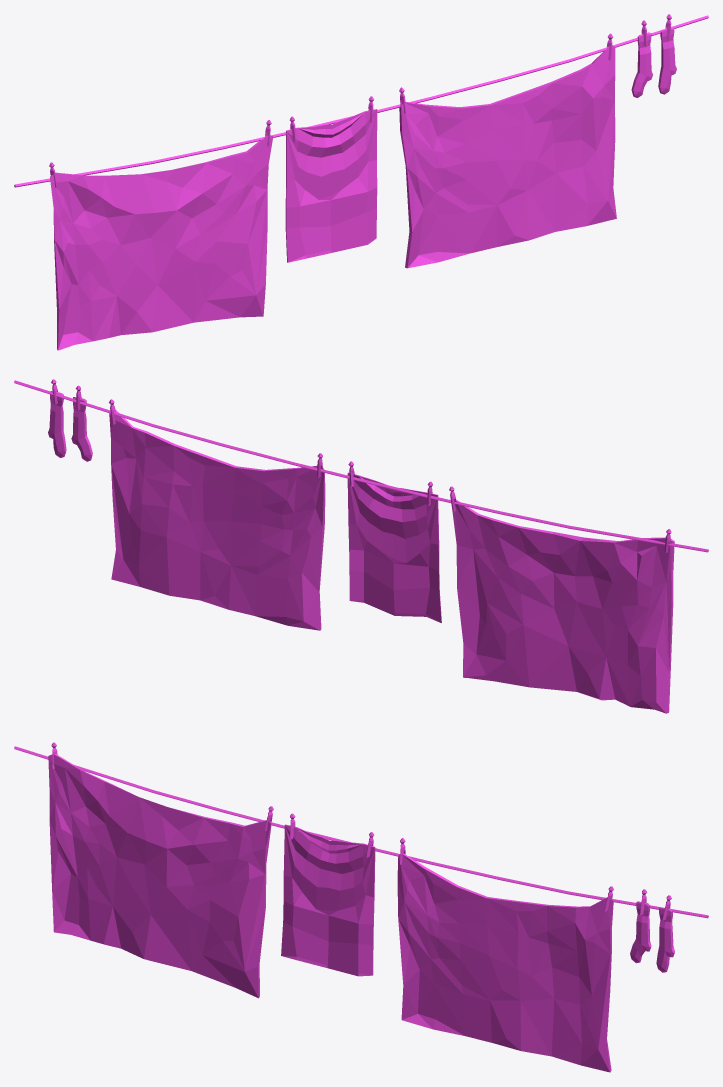
The model's file is SM_Clothesline_7m_Clothes_Fantasy.fbx.
3 views of the same model, one above another, from view 1: azimuth 30°, elevation 25°; view 2: azimuth 150°, elevation 25°; view 3: azimuth 330°, elevation 25° (orthographic).
Visible parts, largest first — view 1: SM_Clothesline_7m_Clothes_Fantasy; view 2: SM_Clothesline_7m_Clothes_Fantasy; view 3: SM_Clothesline_7m_Clothes_Fantasy.
Part boxes in pixels (x1,y1,x2,y2): SM_Clothesline_7m_Clothes_Fantasy: (14, 14, 708, 350); SM_Clothesline_7m_Clothes_Fantasy: (14, 379, 708, 713); SM_Clothesline_7m_Clothes_Fantasy: (14, 742, 708, 1072).
Bounding box in the file's own units: 7 × 1.95 × 0.1483.
